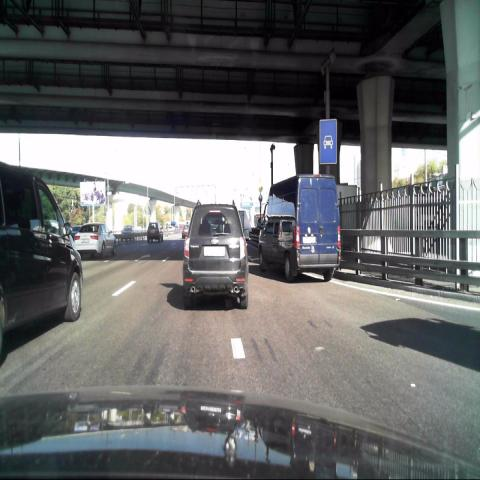5_3: (320, 119, 336, 164)
